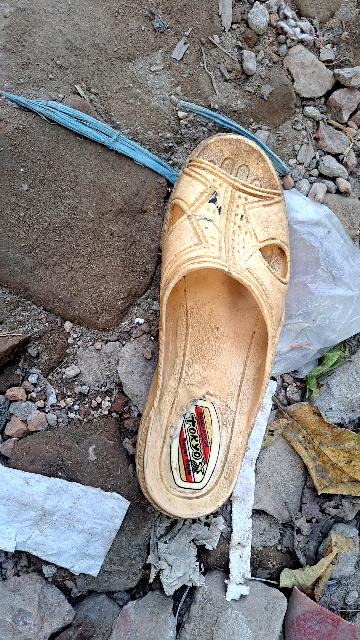sandal: (86, 97, 323, 544)
